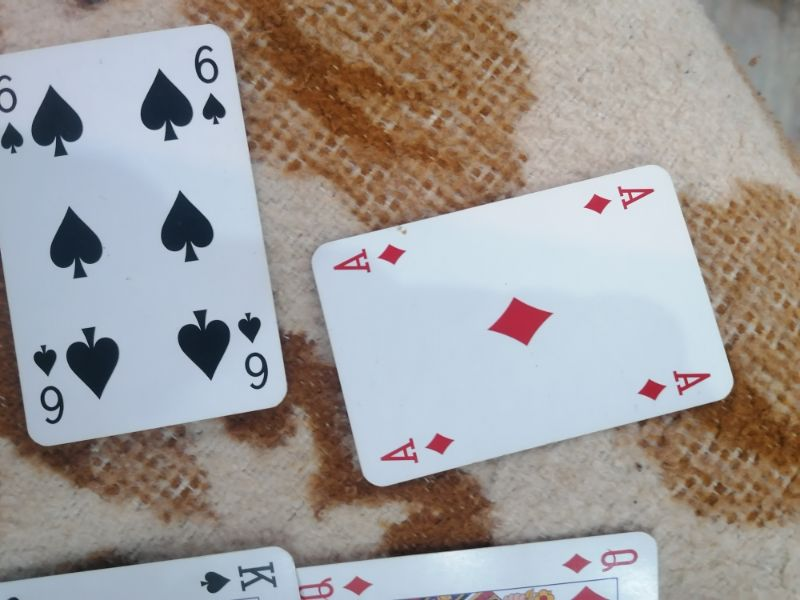6s: (190, 44, 230, 129), (28, 343, 68, 426), (235, 311, 274, 395), (1, 70, 32, 156)
Ad: (379, 427, 458, 470), (332, 239, 411, 278), (635, 366, 714, 403), (580, 180, 661, 216)
Ks: (195, 558, 283, 598)
Qd: (559, 544, 645, 576)
